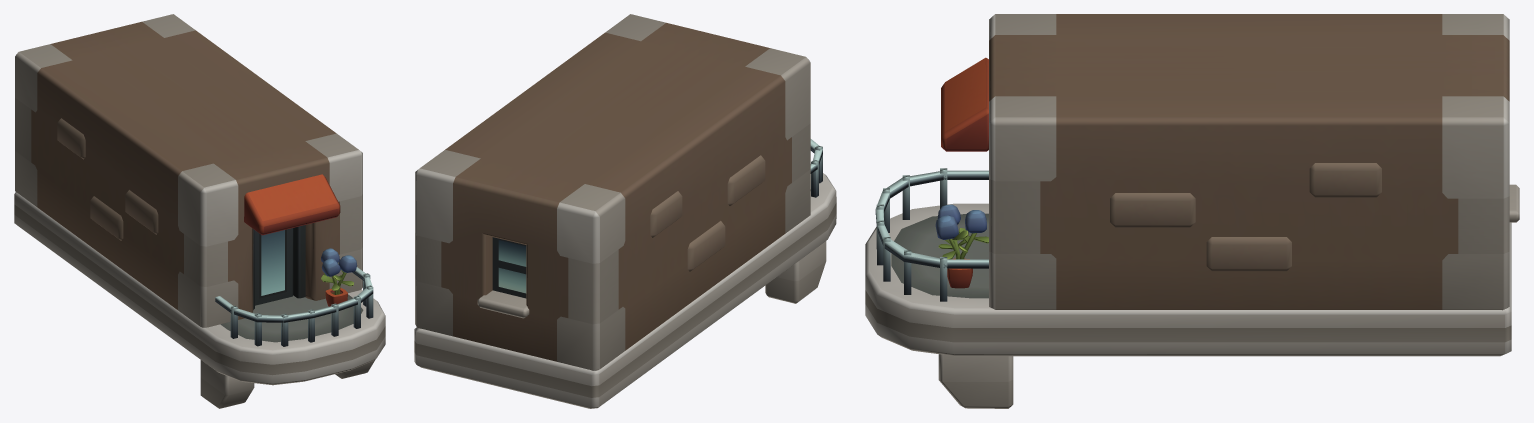
The model's file is appartment_type1_x2_balcony_beige.fbx.
3 views of the same model, side by side, from view 1: azimuth 30°, elevation 25°; view 2: azimuth 150°, elevation 25°; view 3: azimuth 270°, elevation 25° (orthographic). The views are drawn at different scales.
Visible parts, largest first — view 1: appartment_type1_x2_balcony_beige, door_appartment_type1_x2_balcony_grey; view 2: appartment_type1_x2_balcony_beige; view 3: appartment_type1_x2_balcony_beige.
Boxes of the visible parts, x1,y1,x2,y2 form: appartment_type1_x2_balcony_beige: (14,14,385,408); door_appartment_type1_x2_balcony_grey: (255,228,293,305); appartment_type1_x2_balcony_beige: (414,14,836,408); appartment_type1_x2_balcony_beige: (865,14,1519,408).
Size of the model in its own units: 419 by 505 by 1017.
